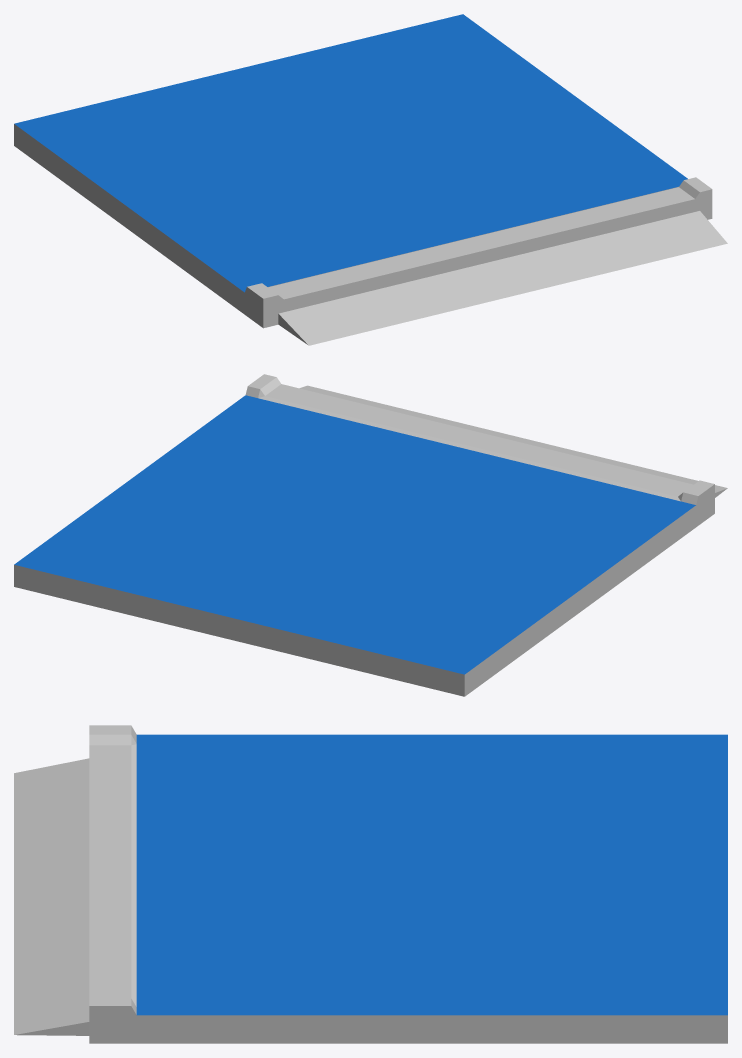
The model's file is SM_sidewalk_5.fbx.
3 renders of one model, top to bottom at view 1: azimuth 30°, elevation 25°; view 2: azimuth 150°, elevation 25°; view 3: azimuth 270°, elevation 25°, orthographic. The views are drawn at different scales.
Visible parts, largest first — view 1: Cube_24; view 2: Cube_24; view 3: Cube_24.
Boxes of the visible parts, bbox=[...] form: Cube_24: bbox=[14, 14, 727, 345]; Cube_24: bbox=[14, 374, 727, 696]; Cube_24: bbox=[14, 725, 727, 1043].
Bounding box in the file's own units: 250 × 15.7 × 269.
